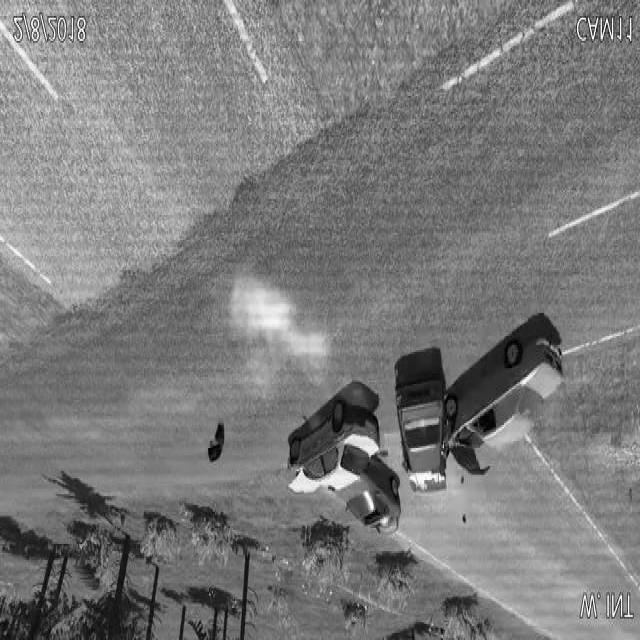moderate: (393, 312, 569, 499), (279, 406, 403, 540)
